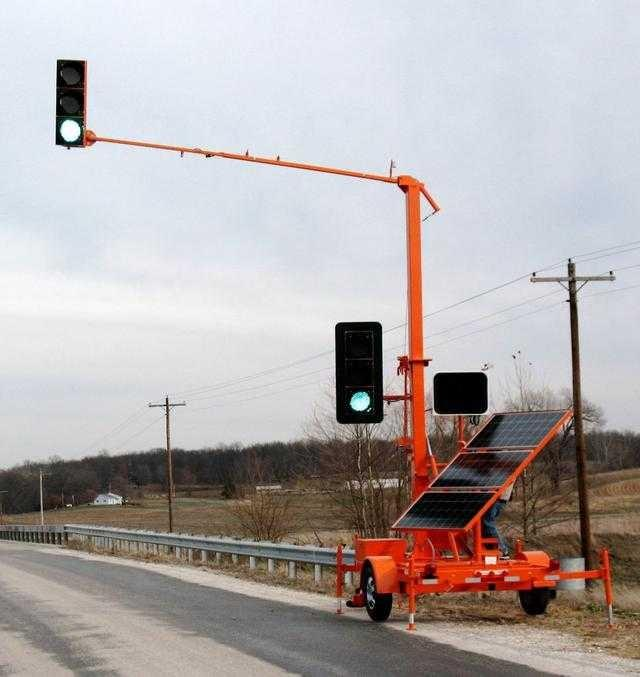green: (341, 327, 384, 421), (58, 57, 87, 147), (342, 385, 378, 415), (61, 119, 83, 142)
